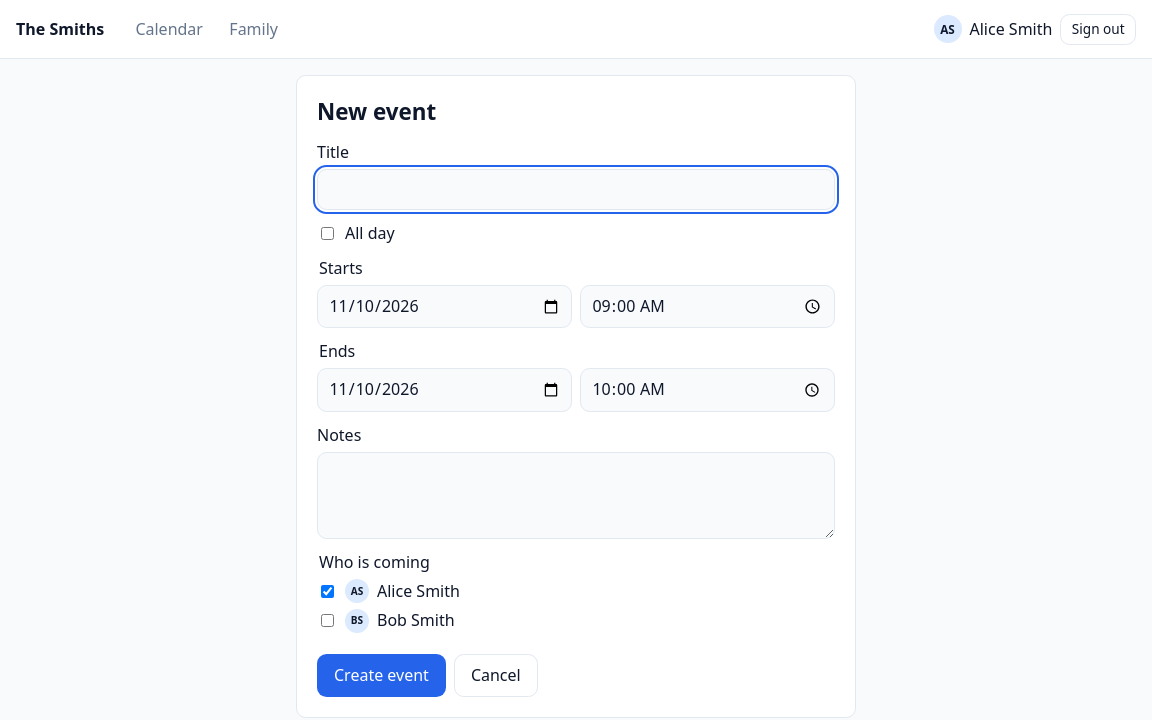
event form › creates an event with participants
Step 1. Type "Dentist" into the field labelled "Title" → coordinates (576, 189), box [317, 169, 835, 210]
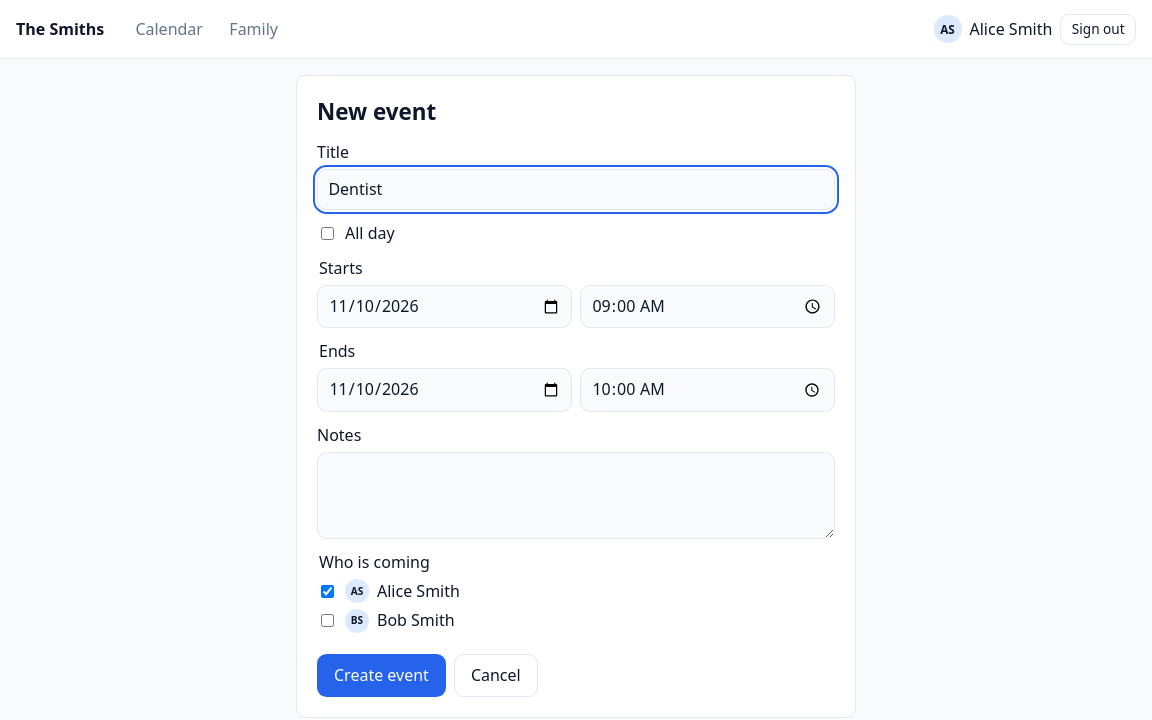
Step 2. Click the checkbox labelled "BS Bob Smith" → coordinates (328, 621), box [321, 614, 334, 627]
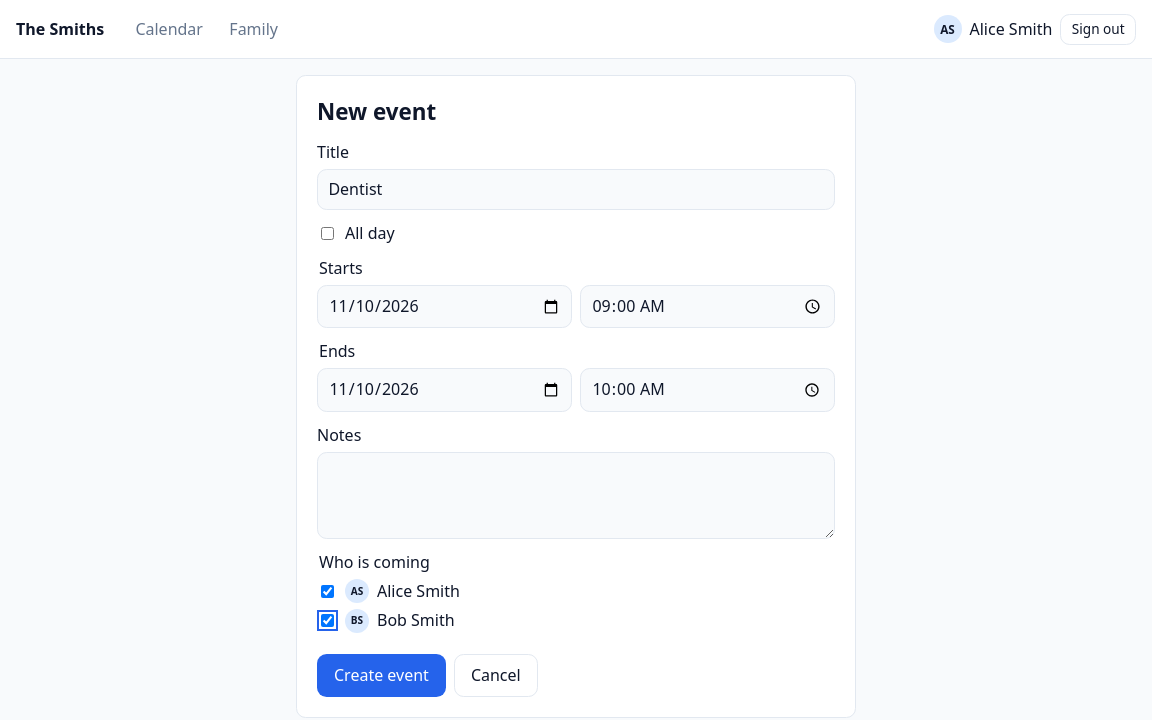
Step 3. Click the button "Create event" → coordinates (381, 676), box [317, 654, 446, 697]
(page scrolled)
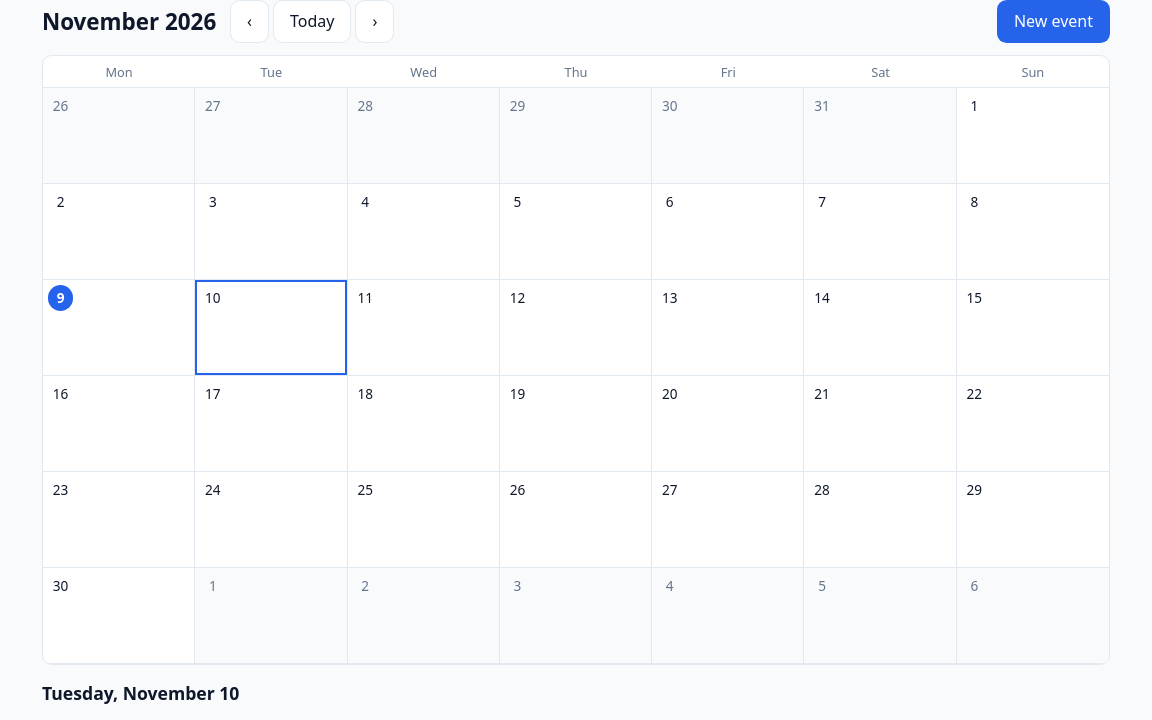
Now the table is shown
